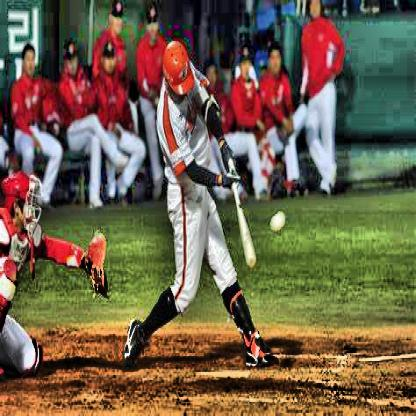baseball: (272, 212, 284, 231)
